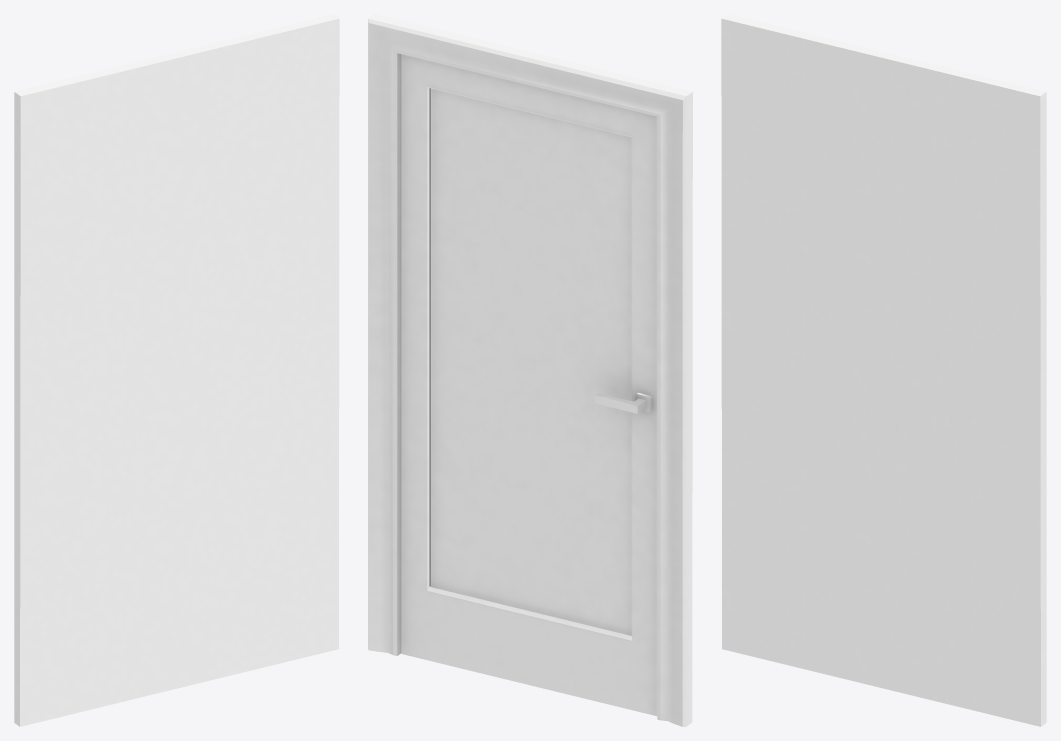
Rendered from DoorOnePanelSnapToWall2.glb.
3 views of the same model, side by side, from view 1: azimuth 30°, elevation 25°; view 2: azimuth 150°, elevation 25°; view 3: azimuth 330°, elevation 25° (orthographic).
Visible parts, largest first — view 1: DoorOnePanelSnapToWall2; view 2: DoorOnePanelSnapToWall2; view 3: DoorOnePanelSnapToWall2.
Part boxes in pixels (x1,y1,x2,y2): DoorOnePanelSnapToWall2: [14, 14, 339, 726]; DoorOnePanelSnapToWall2: [368, 14, 692, 726]; DoorOnePanelSnapToWall2: [721, 14, 1046, 726].
Size of the model in its own units: 1.12 by 2.13 by 0.0835.
1 material, 1 textured.
